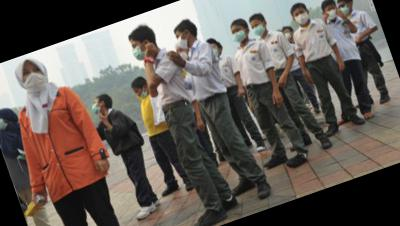mask_weared_incorrect: (132, 85, 147, 101)
with_mask: (17, 61, 49, 96), (130, 39, 149, 63), (292, 7, 311, 27), (230, 25, 249, 44), (250, 20, 267, 40), (174, 30, 190, 51), (323, 4, 339, 22), (175, 46, 190, 64), (337, 0, 352, 18), (90, 99, 104, 117), (283, 29, 292, 41)
